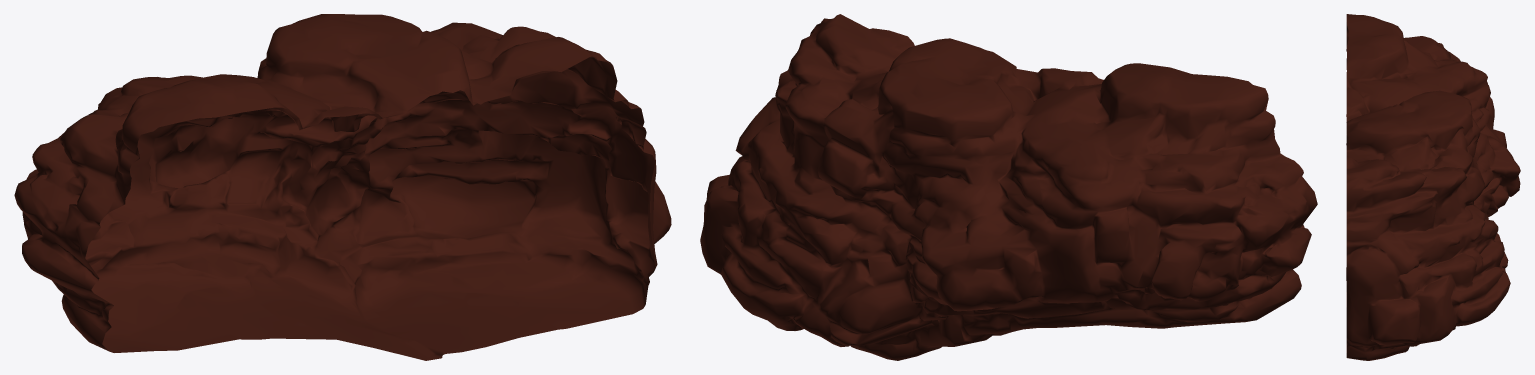
The model's file is Nature_CliffB.FBX.
3 views of the same model, side by side, from view 1: azimuth 30°, elevation 25°; view 2: azimuth 150°, elevation 25°; view 3: azimuth 270°, elevation 25° (orthographic). The views are drawn at different scales.
Visible parts, largest first — view 1: Cliff_B; view 2: Cliff_B; view 3: Cliff_B.
Part boxes in pixels (bbox=[...]): Cliff_B: bbox=[14, 14, 671, 360]; Cliff_B: bbox=[700, 14, 1317, 360]; Cliff_B: bbox=[1346, 14, 1520, 360].
Size of the model in its own units: 1793 by 850 by 678.
